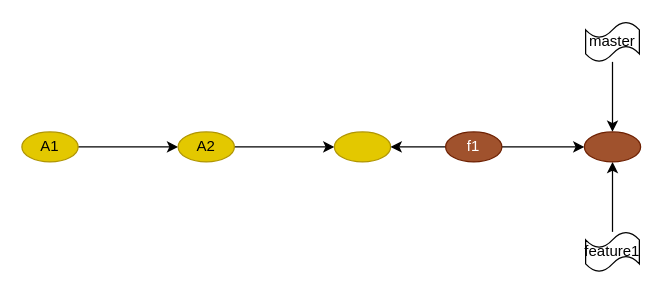
Some shapes in this 663 by 294 pixel diagram are drawn without their labels. Here are the shapes that lost their labels. From the top down, the box of each, then its label:
(333, 131, 391, 162): A3
(583, 131, 641, 162): f2
